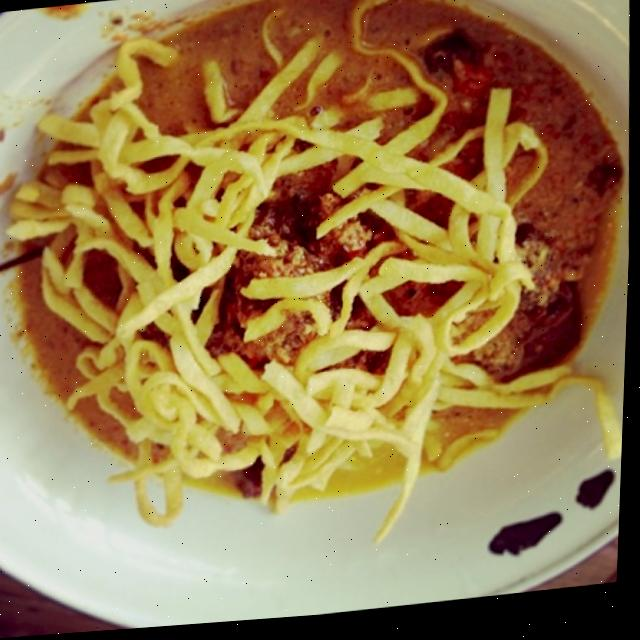面条主食: (0, 0, 634, 610)
